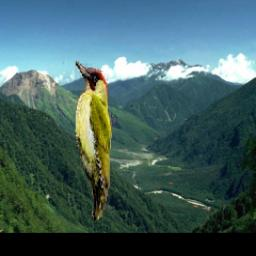Woodpecker: (68, 62, 112, 221)
